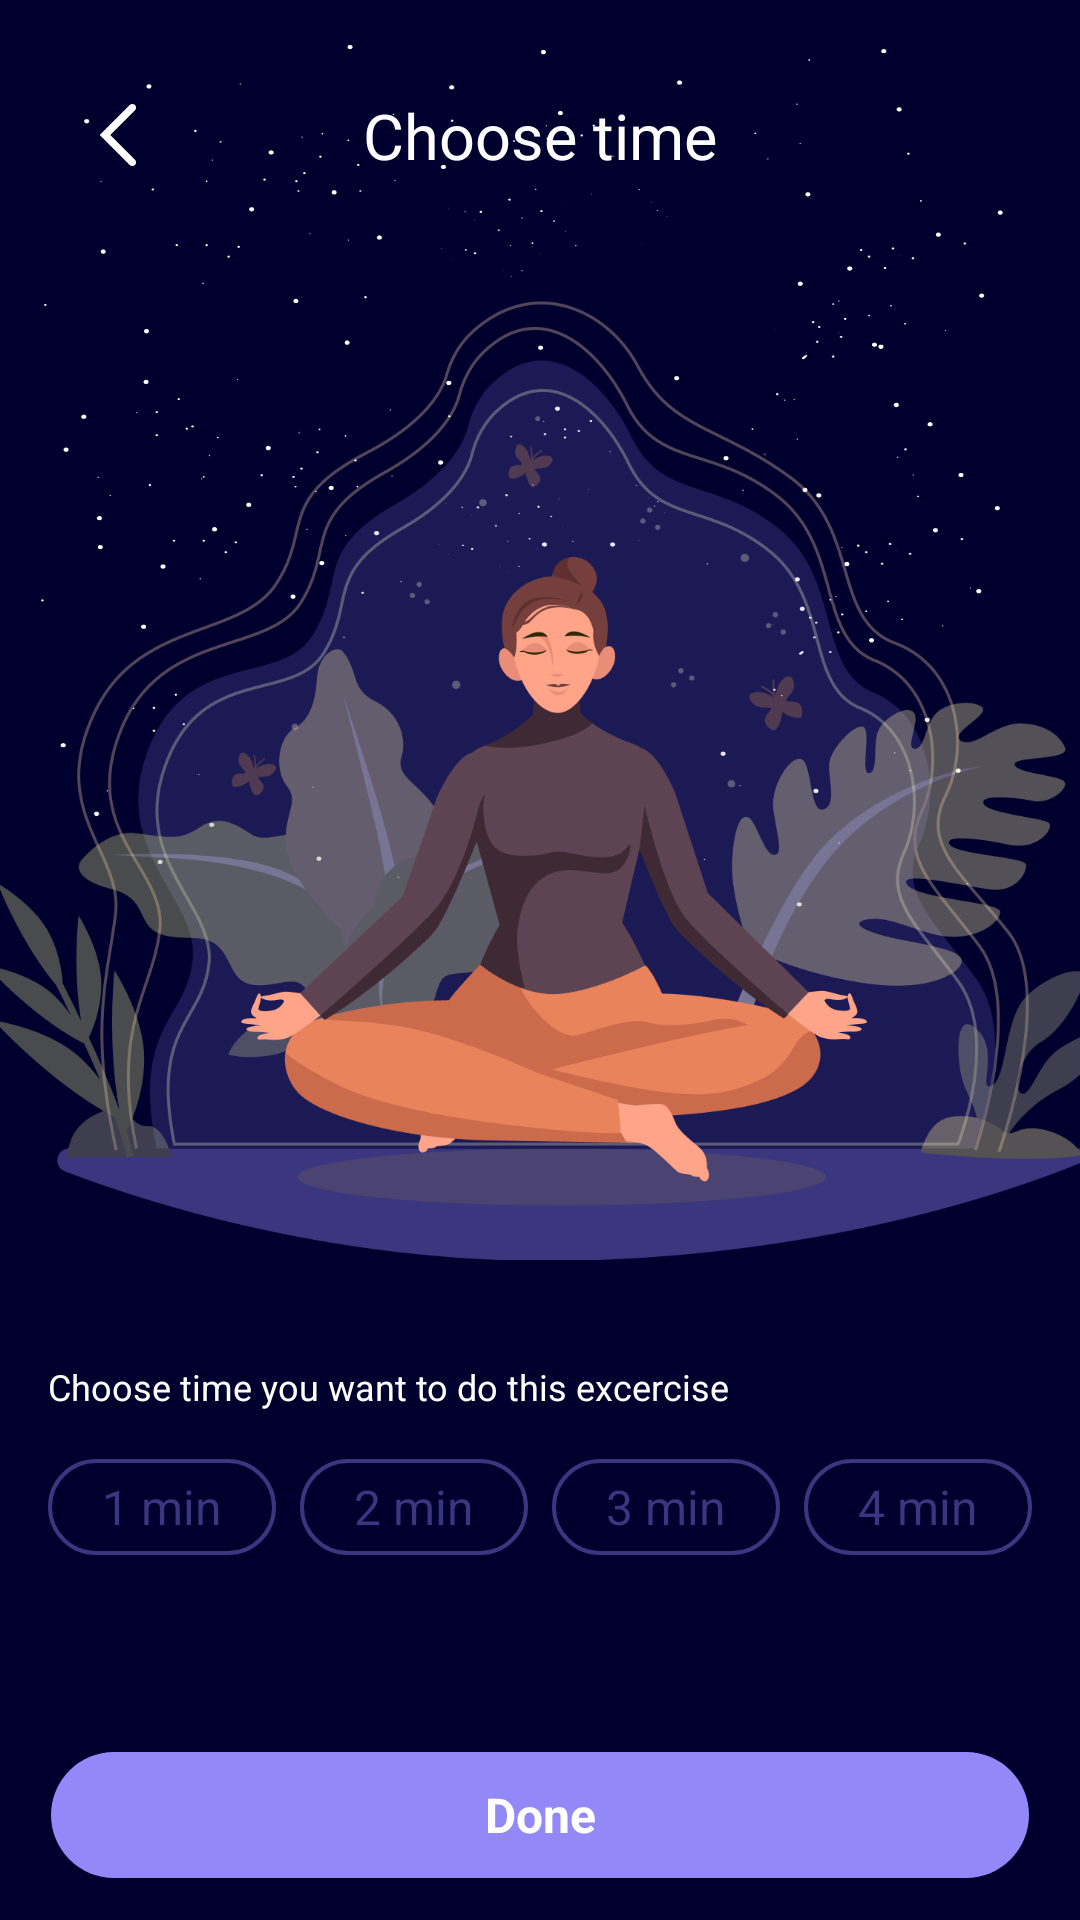

Named icons in this screenshot (1080w x 1920h) and their bounding boxes, [x1,y1,x2,y2]:
arrow left: [84,104,136,166]
